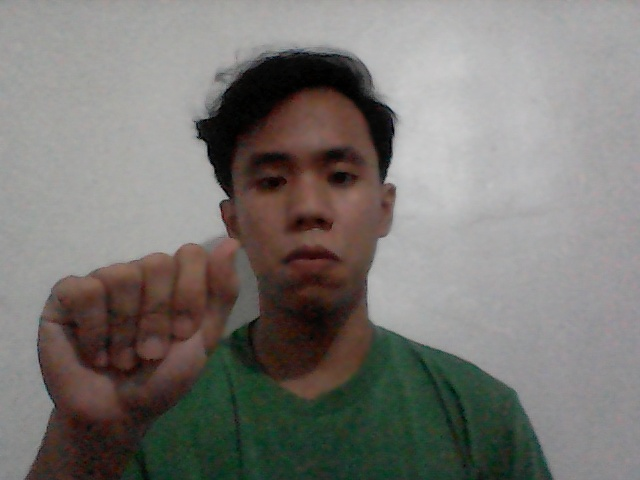A: (17, 227, 265, 440)
